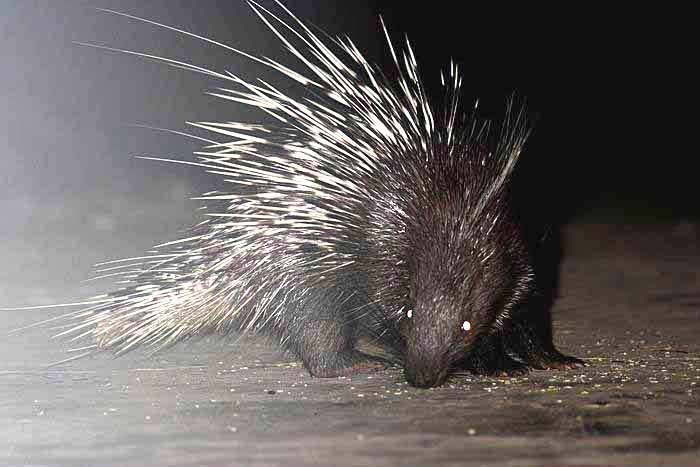porcupine: (51, 6, 600, 395)
